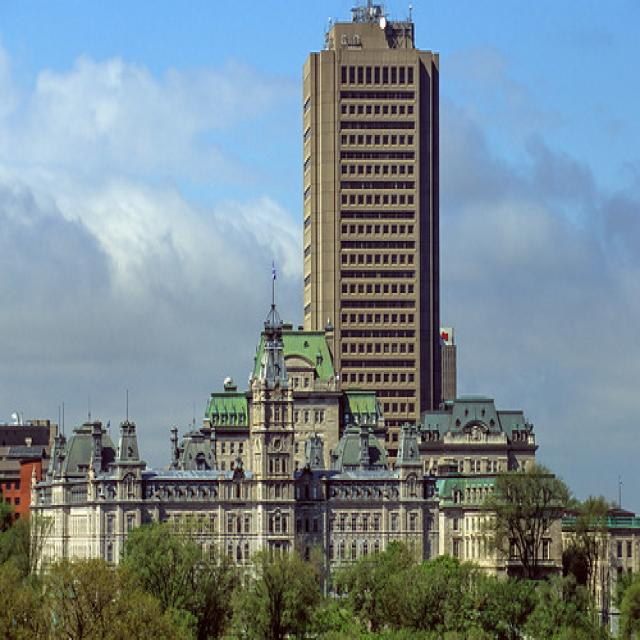building: (296, 0, 453, 459)
